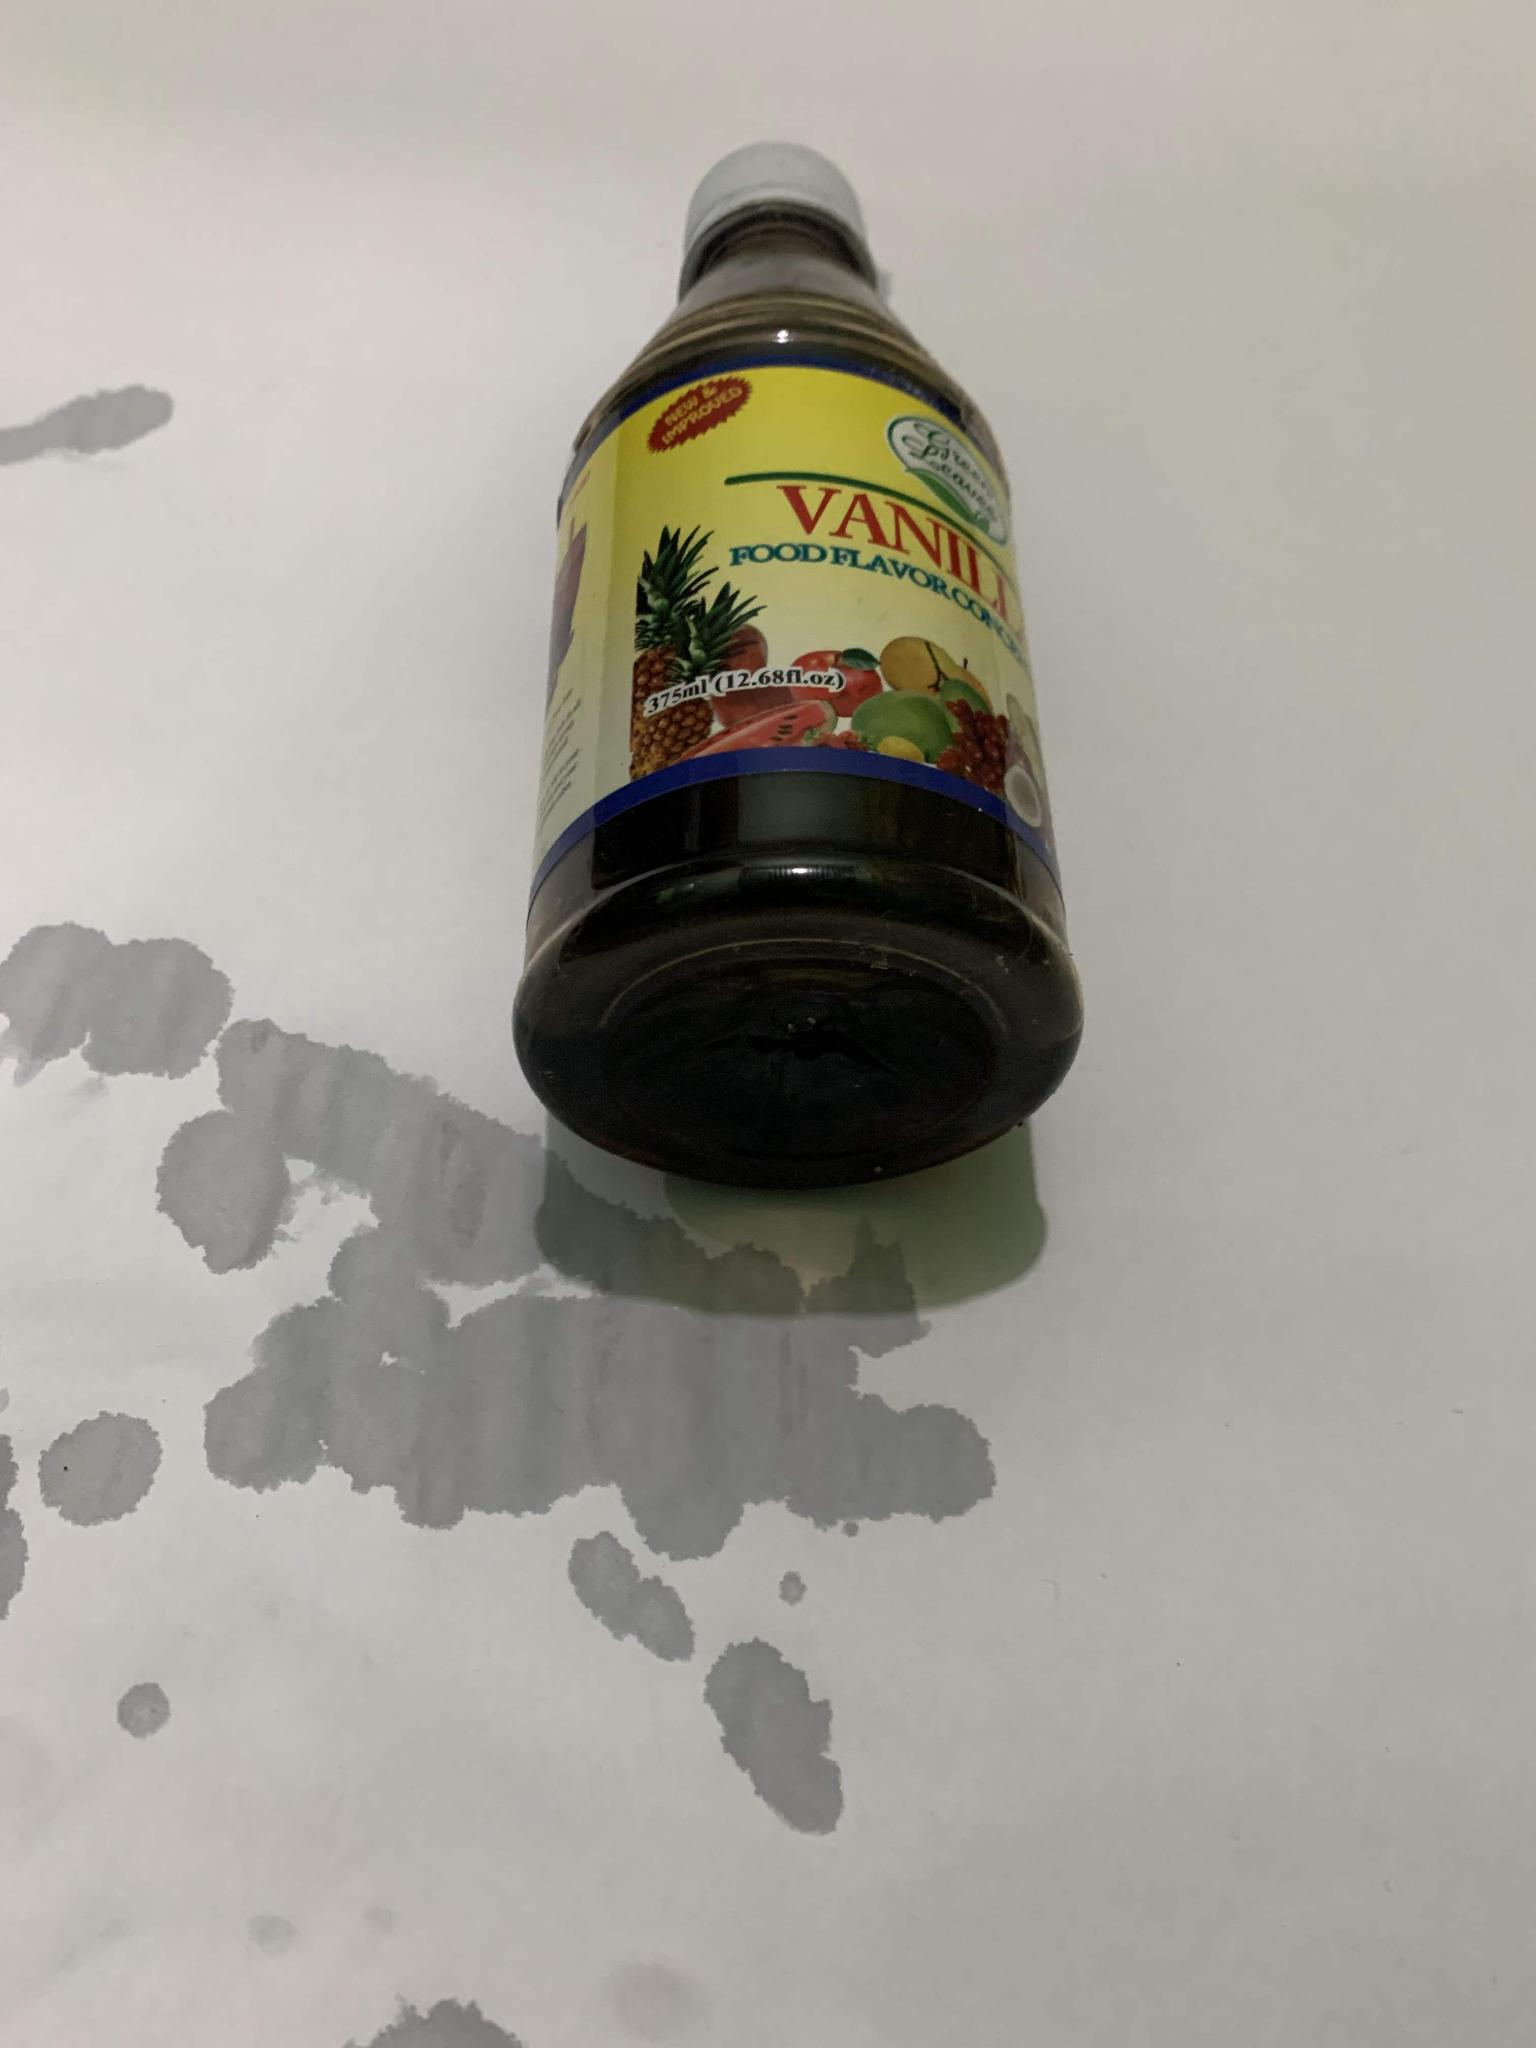bottle: (508, 129, 1092, 1219)
